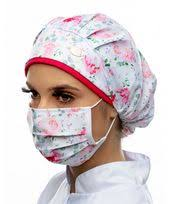with_mask_and_cap: (26, 17, 129, 169)
